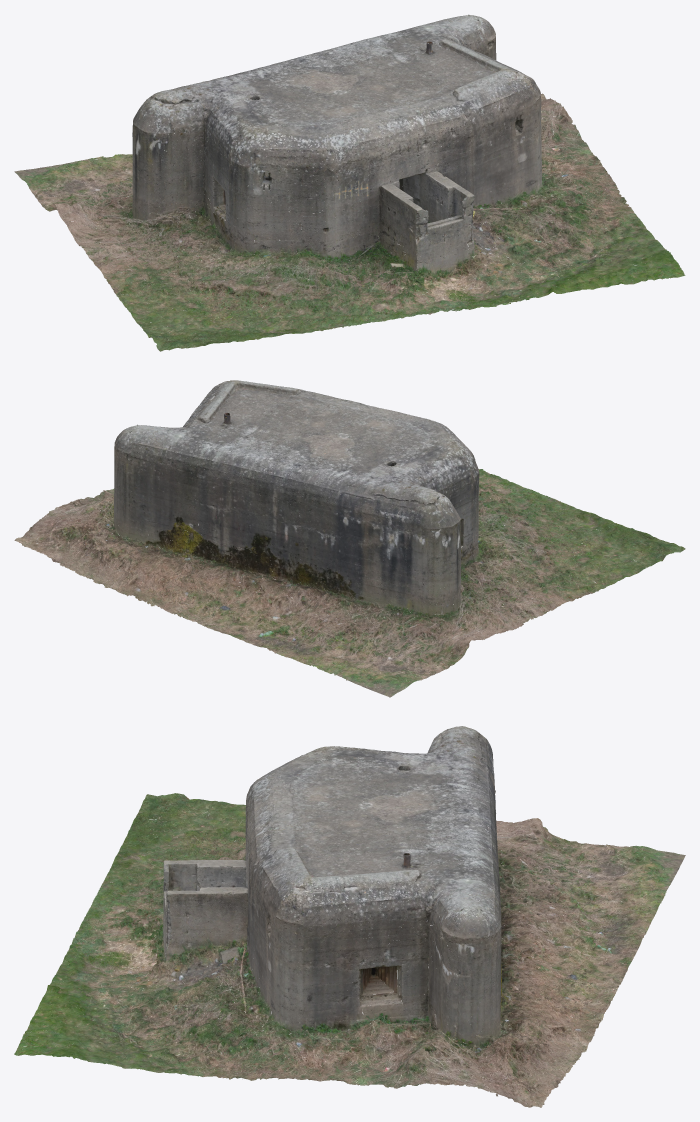
File: sf-bunker-o3-23-a-160-z-11ae75.glb
3 views of the same model, one above another, from view 1: azimuth 30°, elevation 25°; view 2: azimuth 150°, elevation 25°; view 3: azimuth 270°, elevation 25° (orthographic). The views are drawn at different scales.
Visible parts, largest first — view 1: Model_material1_0, Model_material2_0; view 2: Model_material1_0, Model_material2_0; view 3: Model_material1_0, Model_material2_0.
Boxes of the visible parts, x1=… form: Model_material1_0: x1=14, y1=16, x2=670, y2=351; Model_material2_0: x1=22, y1=14, x2=685, y2=343; Model_material1_0: x1=14, y1=380, x2=685, y2=697; Model_material2_0: x1=35, y1=380, x2=671, y2=687; Model_material1_0: x1=18, y1=726, x2=685, y2=1107; Model_material2_0: x1=14, y1=727, x2=676, y2=1097.
Bounding box in the file's own units: 12.67 × 3.32 × 11.51.
2 materials, 2 textured.
